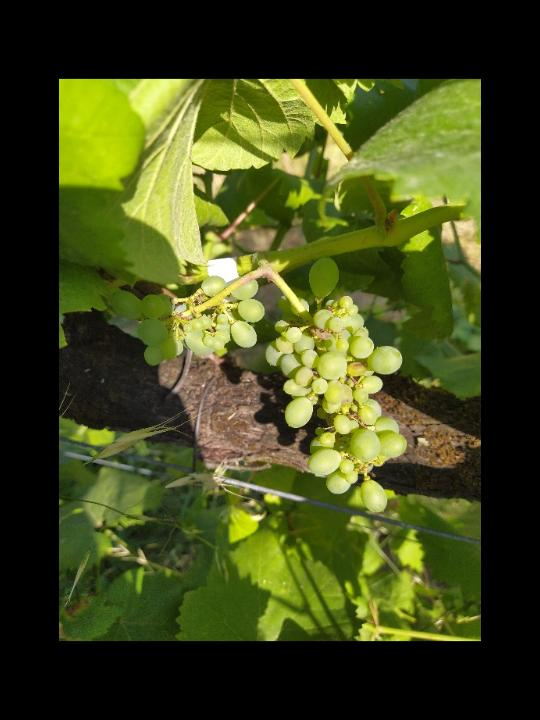grape: (108, 255, 412, 521)
